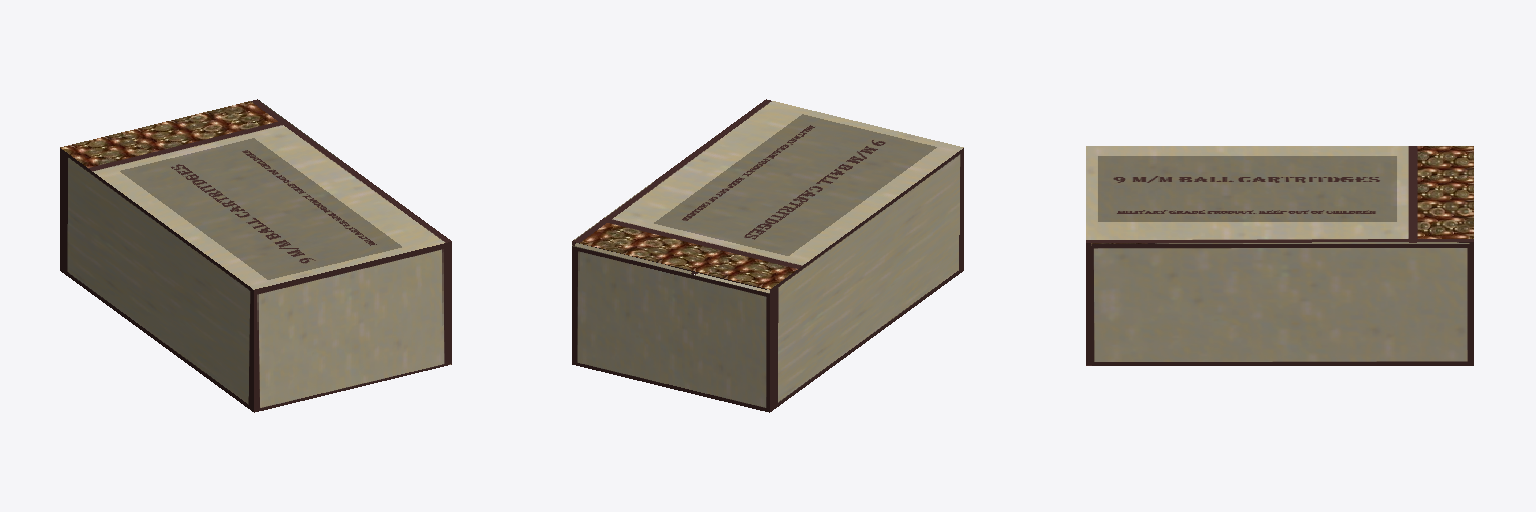
3 views of the same model, side by side, from view 1: azimuth 30°, elevation 25°; view 2: azimuth 150°, elevation 25°; view 3: azimuth 270°, elevation 25° (orthographic).
Visible parts, largest first — view 1: Box01; view 2: Box01; view 3: Box01.
Boxes of the visible parts, x1=… form: Box01: x1=60, y1=99, x2=451, y2=412; Box01: x1=572, y1=99, x2=963, y2=412; Box01: x1=1086, y1=146, x2=1473, y2=365.
Size of the model in its own units: 29.91 by 17.74 by 50.8.
Materials: 1 (1 with a texture image).